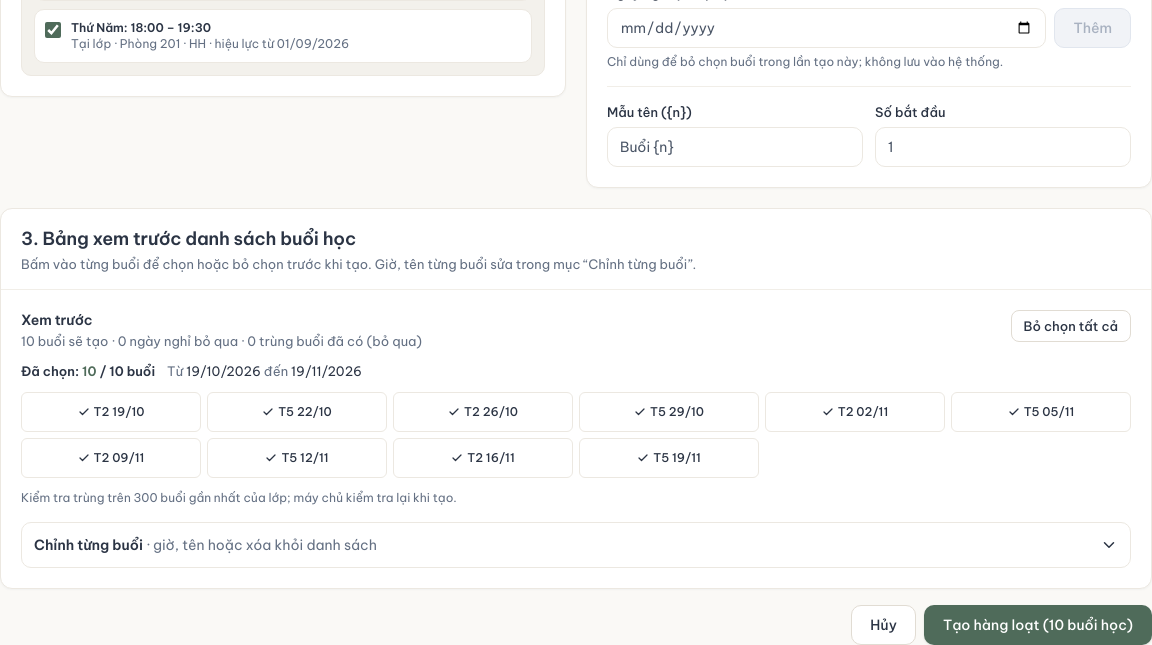
Test: BatchSessionCreateWorkspace — design 17b preview › locks the confirmation while creating, then reports a failed connection without refreshing
This screenshot has width=1152, height=645.
(page scrolled)
Click the button "Tạo hàng loạt (10 buổi học)".
click(1038, 625)  # box [924,605,1151,644]
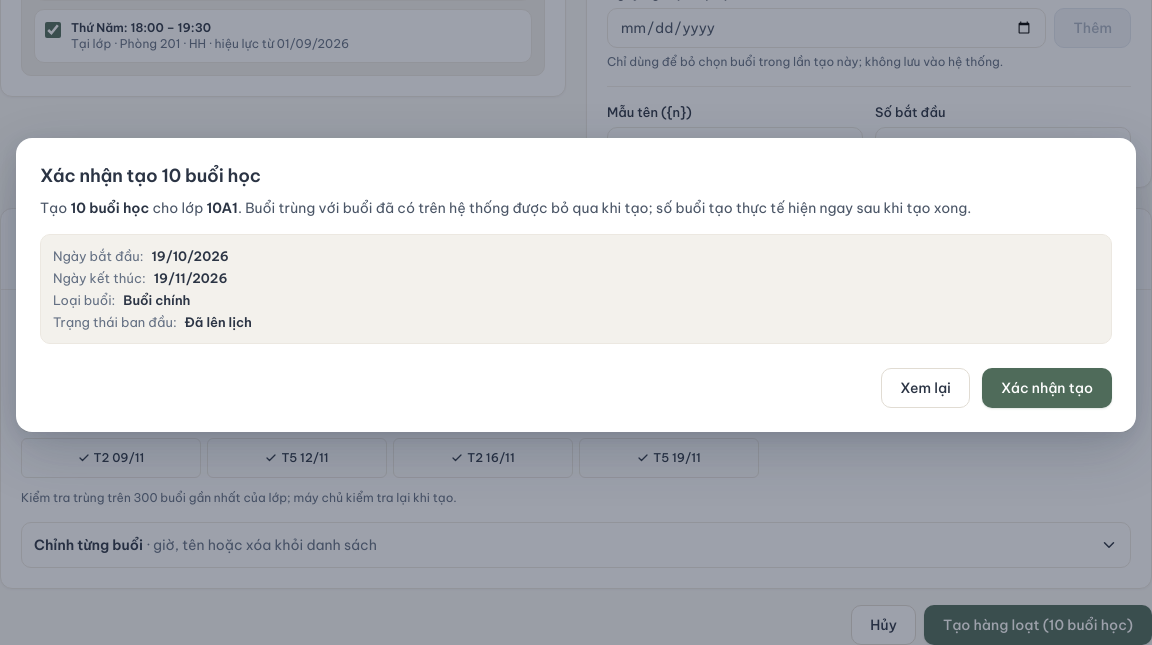
Click the button "Xác nhận tạo".
click(1047, 388)  # box [982,368,1112,408]
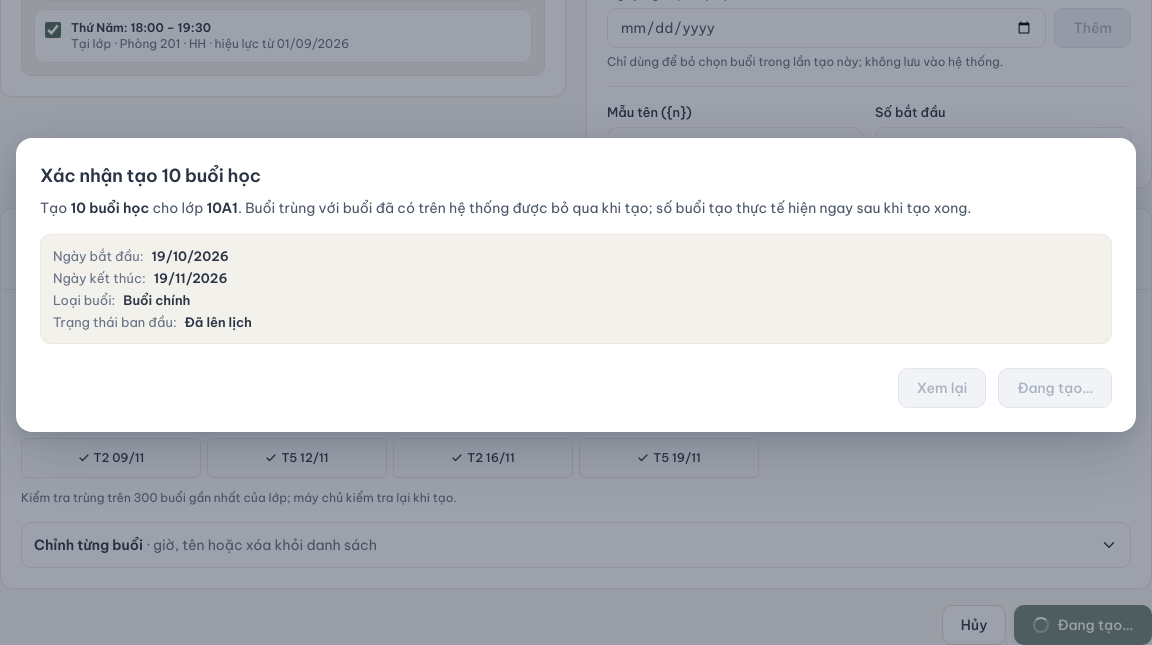
expect the button "Đang tạo…" is disabled: met, box [998,368,1112,408]
expect the button "Xem lại" is disabled: met, box [898,368,986,408]
Press Escape in the dialog, box [16,138,1136,432]
expect the dialog is shown: met, box [16,138,1136,432]
Click the button "Đang tạo…".
click(1055, 388)  # box [998,368,1112,408]
(page scrolled)
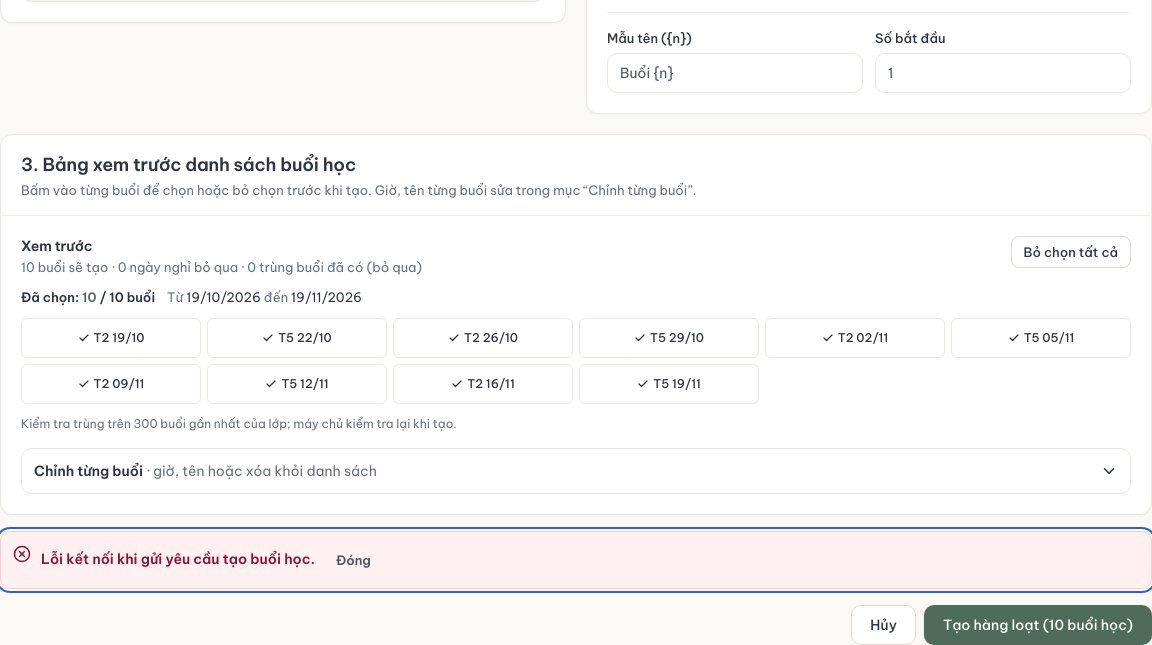
expect the dialog is gone: met
expect the text "Lỗi kết nối khi gửi yêu cầu tạo buổi học." is shown: met, box [41,550,315,568]
expect the button "Tạo hàng loạt (10 buổi học)" is enabled: met, box [924,605,1151,644]
